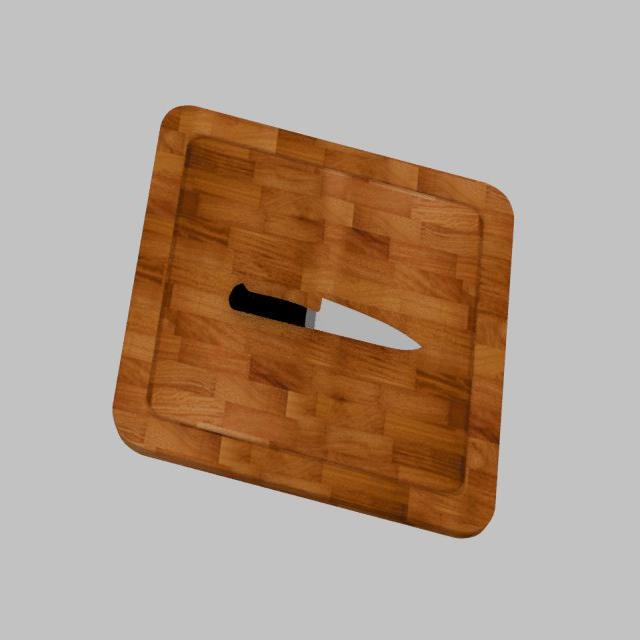knife: (229, 284, 307, 328)
